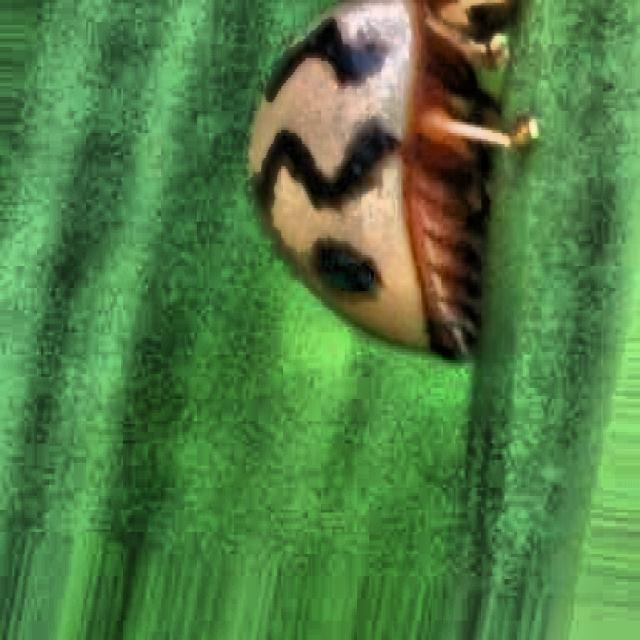Asian-Lady-beetle: (205, 0, 561, 396)
